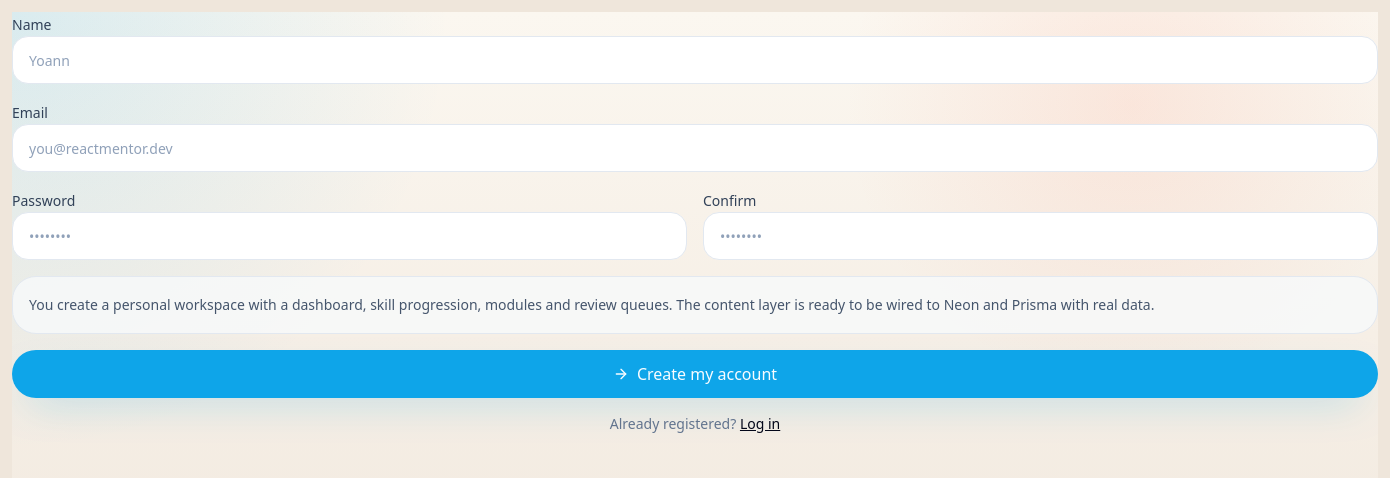
Scenario: SignUpForm › blocks submission when passwords do not match
Step 1. Type "John Doe" into the field labelled "Name" → (695, 60), box [12,36,1378,84]
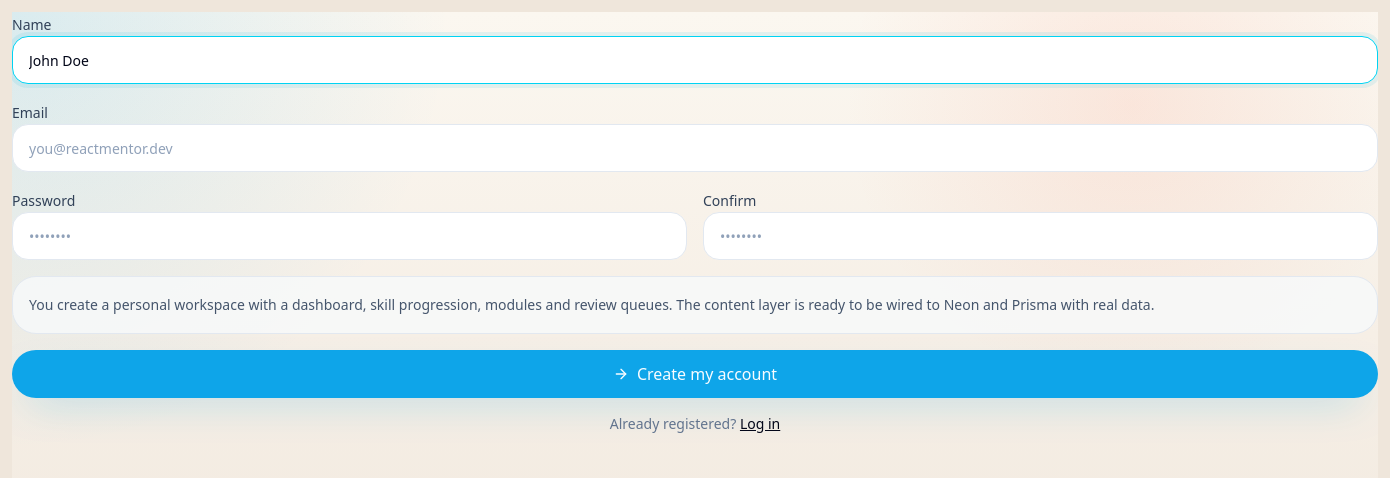
Step 2. Type "john@example.com" into the field labelled "Email" → (695, 148), box [12,124,1378,172]
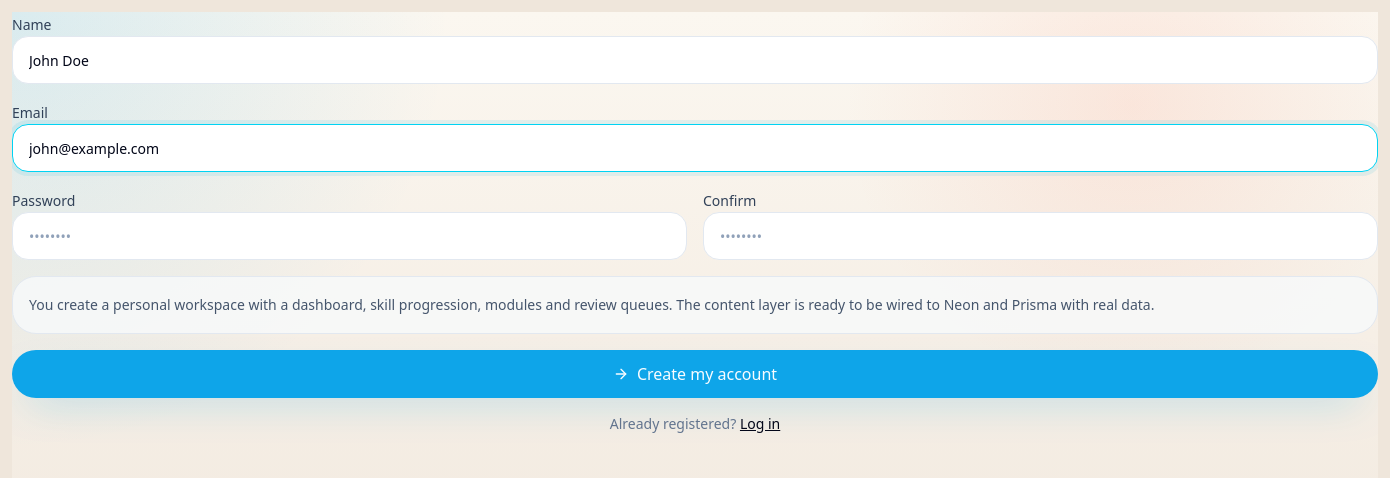
Step 3. Type "password123" into the password field labelled "Password" → (350, 236), box [12,212,687,260]
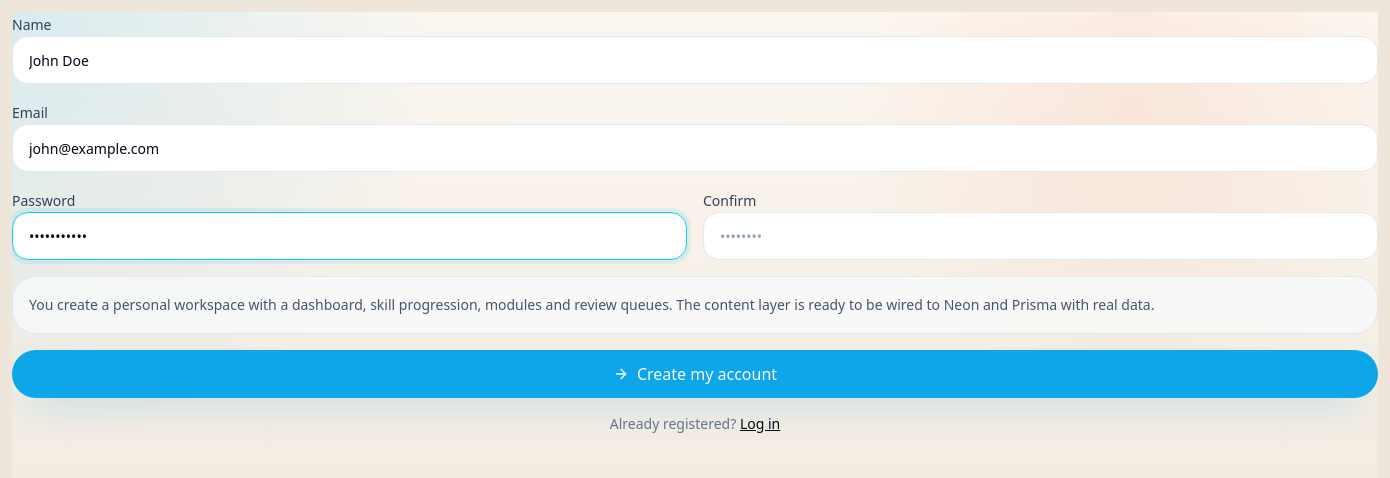
Step 4. Type "password321" into the password field labelled "Confirm" → (1040, 236), box [703,212,1378,260]
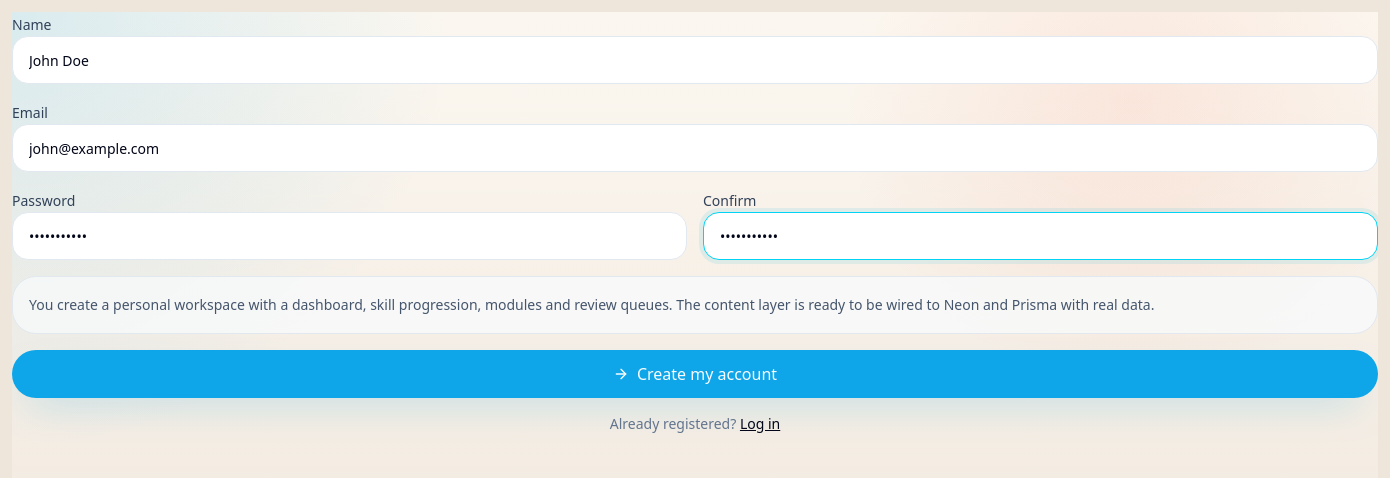
Step 5. Click the button "Create my account" → (695, 374), box [12,350,1378,398]
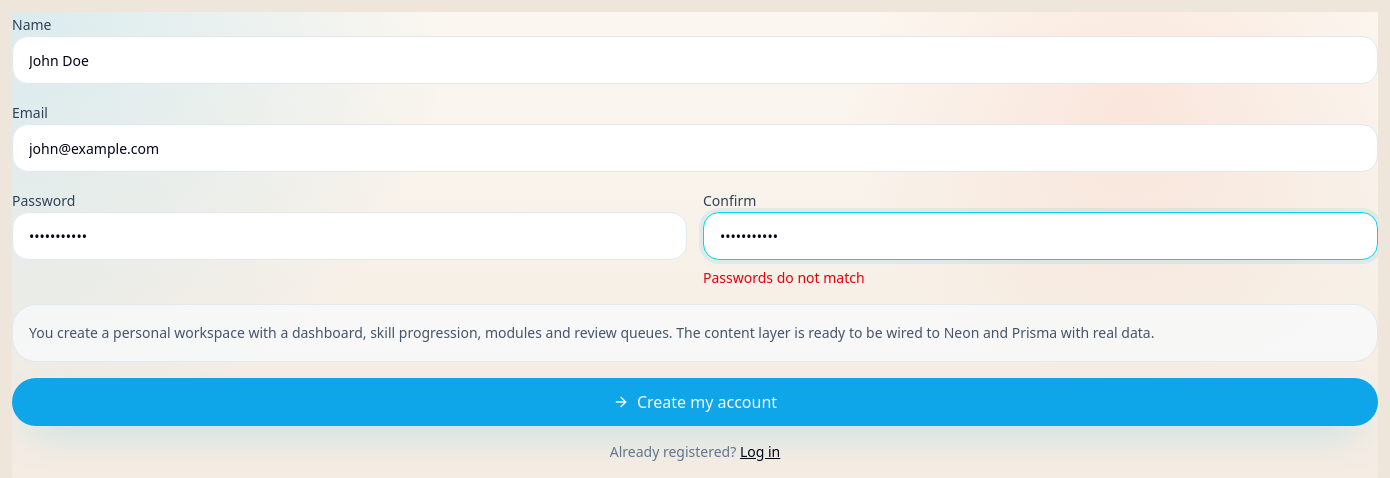
Result: the text "Passwords do not match" is shown at [703,268,865,287]
